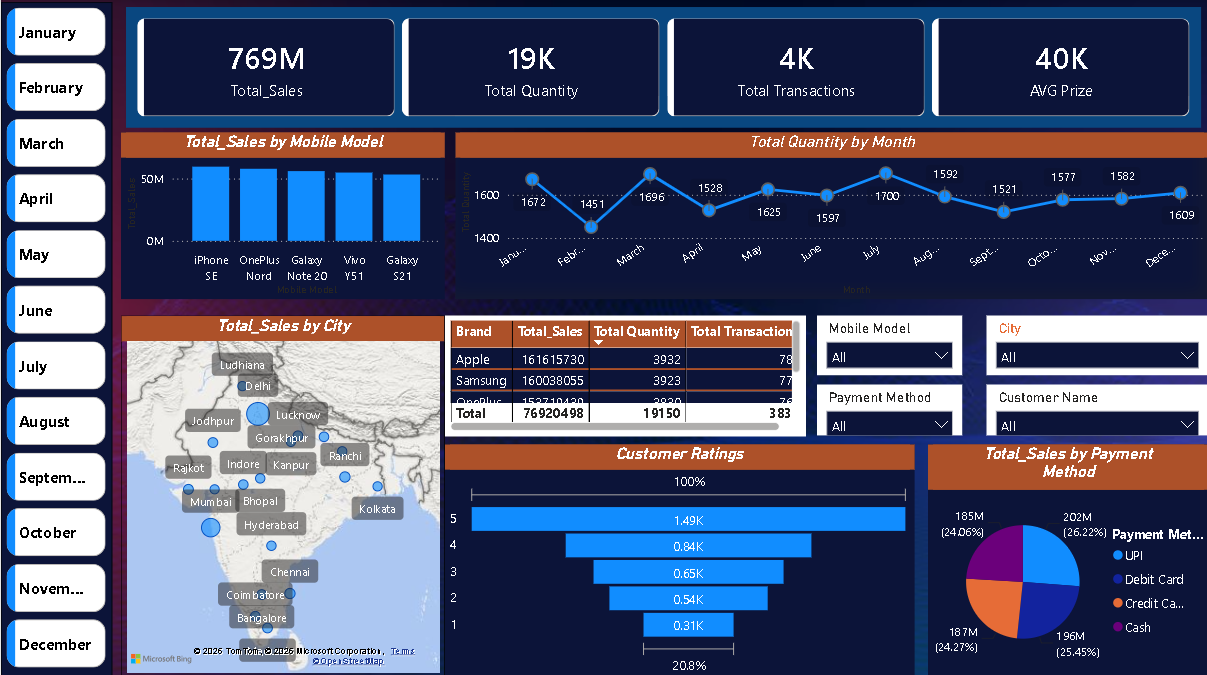

The dashboard page shown, as its layout file describes it:
{"tool":"powerbi","page":{"name":"Page 1","canvas":[1280,720],"ordinal":0},"visuals":[{"type":"advancedSlicerVisual","fields":{"Values":["Sales_Data.Date.Variation.Date Hierarchy.Month"]},"box":[0,3.2,117.7,717.4],"z":0},{"type":"cardVisual","fields":{"Data":["Sales_Data.Total_Sales","Sales_Data.Total Quantity","Sales_Data.Total Transactions","Sales_Data.AVG Prize"]},"box":[127.2,3.2,1153.2,138.4],"z":1000},{"type":"map","fields":{"Category":["Sales_Data.City"],"Size":["Sales_Data.Total_Sales"]},"box":[127.2,335.6,343.6,384.9],"z":2000},{"type":"lineChart","fields":{"Category":["Sales_Data.Date.Variation.Date Hierarchy.Month","Sales_Data.Date.Variation.Date Hierarchy.Day"],"Y":["Sales_Data.Total Quantity"]},"box":[482,141.6,798.5,176.6],"z":3000},{"type":"clusteredColumnChart","fields":{"Y":["Sales_Data.Total_Sales"],"Category":["Sales_Data.Mobile Model"]},"box":[127.2,141.6,343.6,176.6],"z":4000},{"type":"pieChart","fields":{"Y":["Sales_Data.Total_Sales"],"Category":["Sales_Data.Payment Method"]},"box":[983,472.4,297.4,248.1],"z":5000},{"type":"funnel","title":"Customer Ratings","fields":{"Category":["Sales_Data.Customer Ratings"],"Y":["CountNonNull(Sales_Data.Customer Name)"]},"box":[470.8,472.4,497.9,248.1],"z":6000},{"type":"tableEx","fields":{"Values":["Sales_Data.Brand","Sales_Data.Total_Sales","Sales_Data.Total Quantity","Sales_Data.Total Transactions"]},"box":[470.8,335.6,381.7,127.2],"z":7000},{"type":"slicer","fields":{"Values":["Sales_Data.Mobile Model"]},"box":[865.3,335.6,154.3,63.6],"z":8000},{"type":"slicer","fields":{"Values":["Sales_Data.Payment Method"]},"box":[865.3,408.8,154.3,54.1],"z":9000},{"type":"slicer","fields":{"Values":["Sales_Data.City"]},"box":[1045,335.6,235.4,63.6],"z":10000},{"type":"slicer","fields":{"Values":["Sales_Data.Customer Name"]},"box":[1045,408.8,235.4,54.1],"z":11000}]}

Visuals, with their boxes in screenshot pixels (x1, y1, x2, y2), scaled from the page's 1280x720 canvas onto the 1207x675 screenshot:
advancedSlicerVisual - Sales_Data.Date.Variation.Date Hierarchy.Month: <bbox>0, 3, 111, 674</bbox>
cardVisual - Sales_Data.Total_Sales x Sales_Data.Total Quantity: <bbox>120, 3, 1206, 133</bbox>
map - Sales_Data.City x Sales_Data.Total_Sales: <bbox>120, 315, 444, 674</bbox>
lineChart - Sales_Data.Date.Variation.Date Hierarchy.Month x Sales_Data.Date.Variation.Date Hierarchy.Day: <bbox>455, 133, 1206, 298</bbox>
clusteredColumnChart - Sales_Data.Total_Sales x Sales_Data.Mobile Model: <bbox>120, 133, 444, 298</bbox>
pieChart - Sales_Data.Total_Sales x Sales_Data.Payment Method: <bbox>927, 443, 1206, 674</bbox>
"Customer Ratings" funnel: <bbox>444, 443, 913, 674</bbox>
tableEx - Sales_Data.Brand x Sales_Data.Total_Sales: <bbox>444, 315, 804, 434</bbox>
slicer - Sales_Data.Mobile Model: <bbox>816, 315, 961, 374</bbox>
slicer - Sales_Data.Payment Method: <bbox>816, 383, 961, 434</bbox>
slicer - Sales_Data.City: <bbox>985, 315, 1206, 374</bbox>
slicer - Sales_Data.Customer Name: <bbox>985, 383, 1206, 434</bbox>
